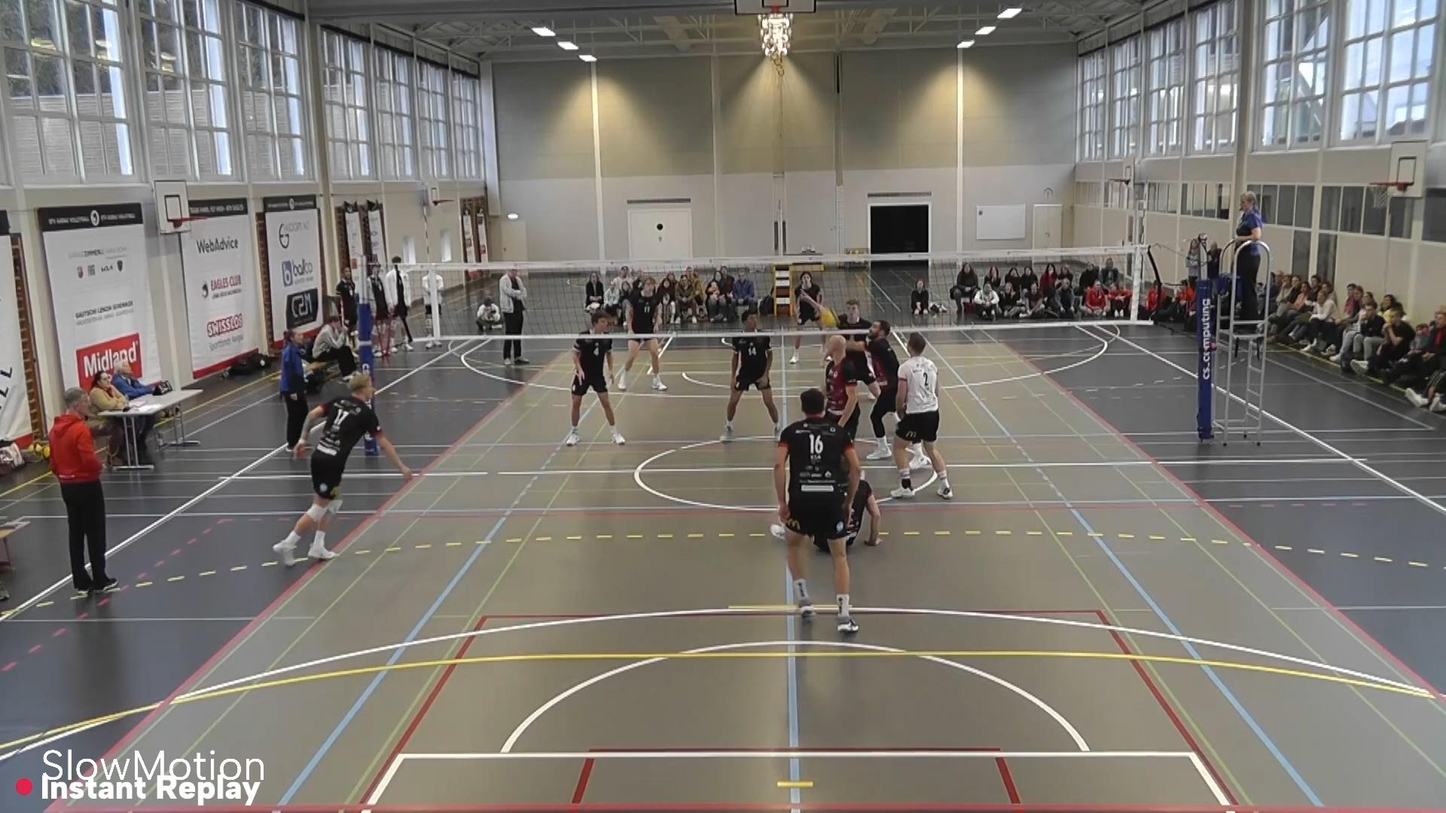Player: (273, 373, 412, 566), (774, 389, 861, 633), (891, 332, 952, 498), (565, 312, 624, 446), (721, 312, 779, 442), (616, 277, 667, 391), (837, 299, 880, 397), (824, 335, 860, 441), (845, 473, 881, 547), (794, 272, 822, 327)
Set: (835, 307, 920, 464)
ball: (817, 302, 837, 332)
